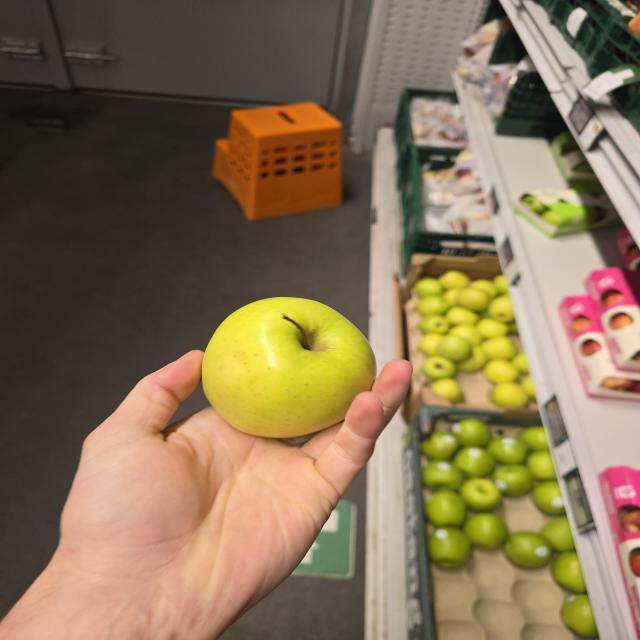Apple: (202, 297, 376, 438)
